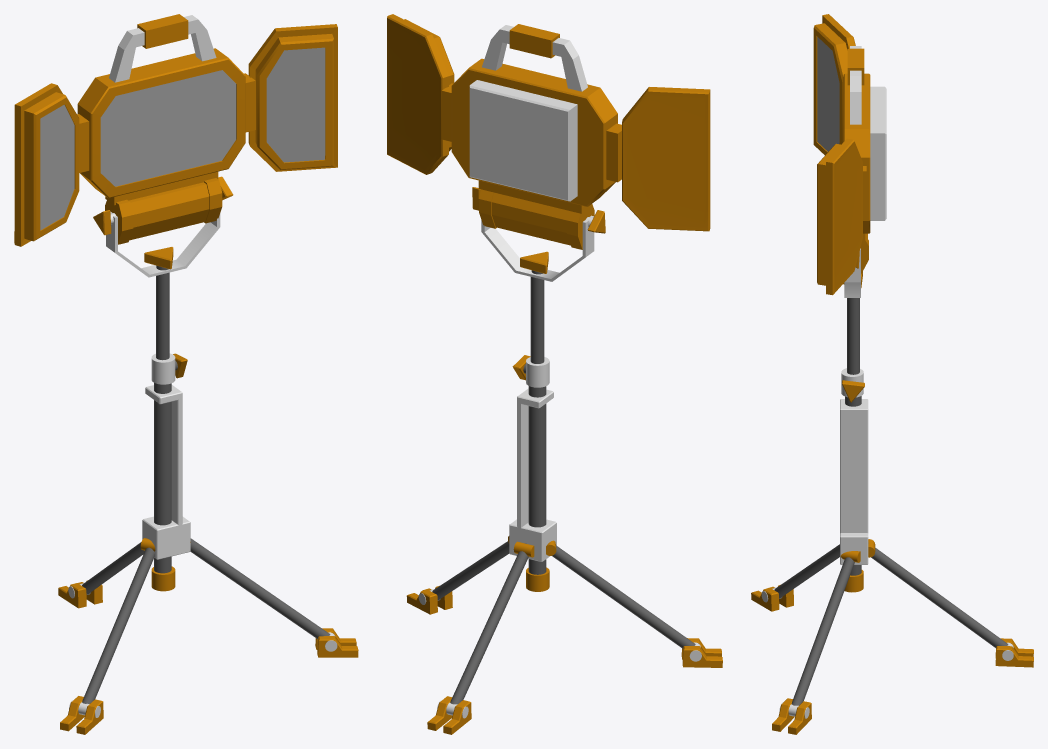
Rendered from S_GrandProjo.fbx.
3 renders of one model, left to right at view 1: azimuth 30°, elevation 25°; view 2: azimuth 150°, elevation 25°; view 3: azimuth 270°, elevation 25°, orthographic. The views are drawn at different scales.
Parts seen in each view (by area): view 1: GRAND_PROJO; view 2: GRAND_PROJO; view 3: GRAND_PROJO.
Boxes of the visible parts, x1,y1,x2,y2 form: GRAND_PROJO: [14, 14, 358, 734]; GRAND_PROJO: [387, 14, 722, 734]; GRAND_PROJO: [751, 14, 1033, 734].
Size of what is drawn, in the model's own units: 124 by 234 by 99.45.
